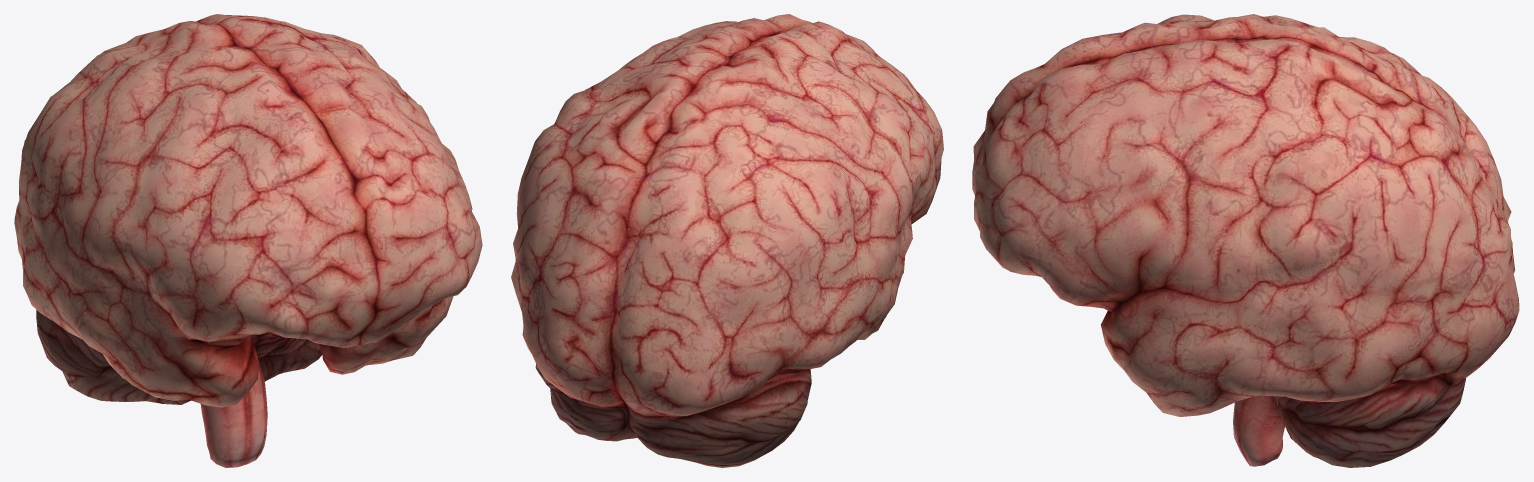
File: brain-transformed.glb
3 views of the same model, side by side, from view 1: azimuth 30°, elevation 25°; view 2: azimuth 150°, elevation 25°; view 3: azimuth 270°, elevation 25° (orthographic). The views are drawn at different scales.
Parts seen in each view (by area): view 1: Object_5; view 2: Object_5; view 3: Object_5.
Part boxes in pixels (<box>): Object_5: <box>14,14,482,467</box>; Object_5: <box>511,14,943,467</box>; Object_5: <box>972,14,1519,467</box>.
Size of the model in its own units: 0.7614 by 0.8544 by 0.991.
1 material, 1 textured.
